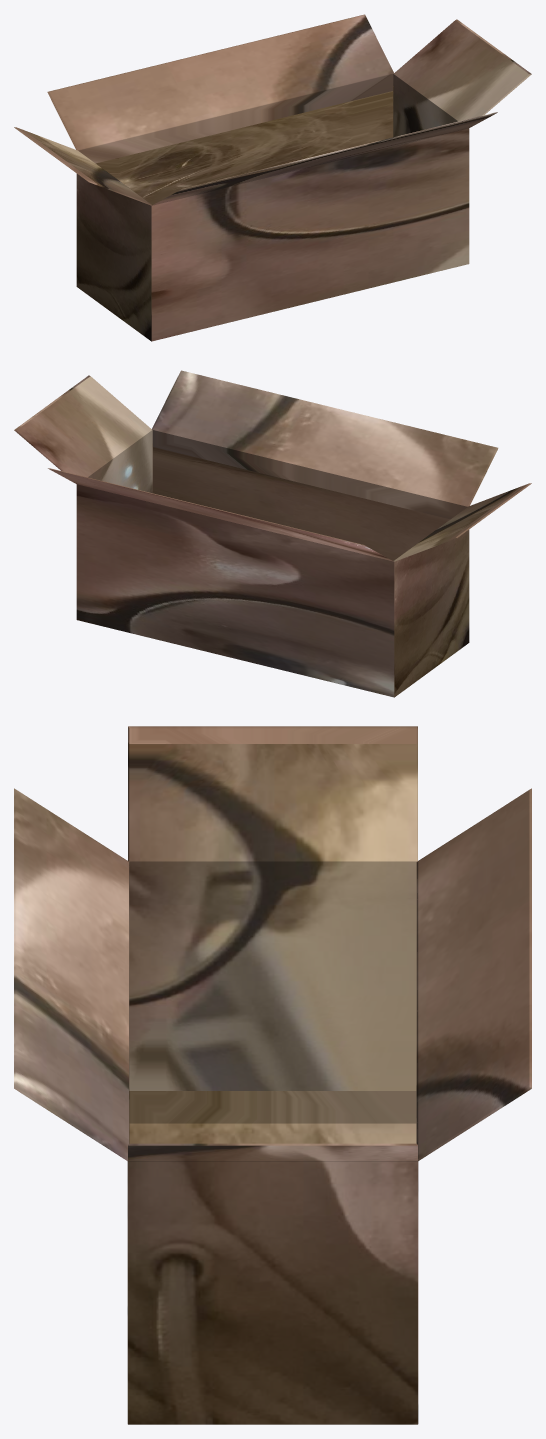
Rendered from Cardboardbox.obj.
3 renders of one model, top to bottom at view 1: azimuth 30°, elevation 25°; view 2: azimuth 150°, elevation 25°; view 3: azimuth 270°, elevation 25°, orthographic. The views are drawn at different scales.
Parts seen in each view (by area): view 1: pCube1; view 2: pCube1; view 3: pCube1.
Boxes of the visible parts, x1,y1,x2,y2 form: pCube1: (14, 14, 531, 341); pCube1: (14, 370, 531, 697); pCube1: (14, 726, 531, 1424).
Size of the model in its own units: 3.42 by 1.29 by 1.78.
Materials: 1 (1 with a texture image).
